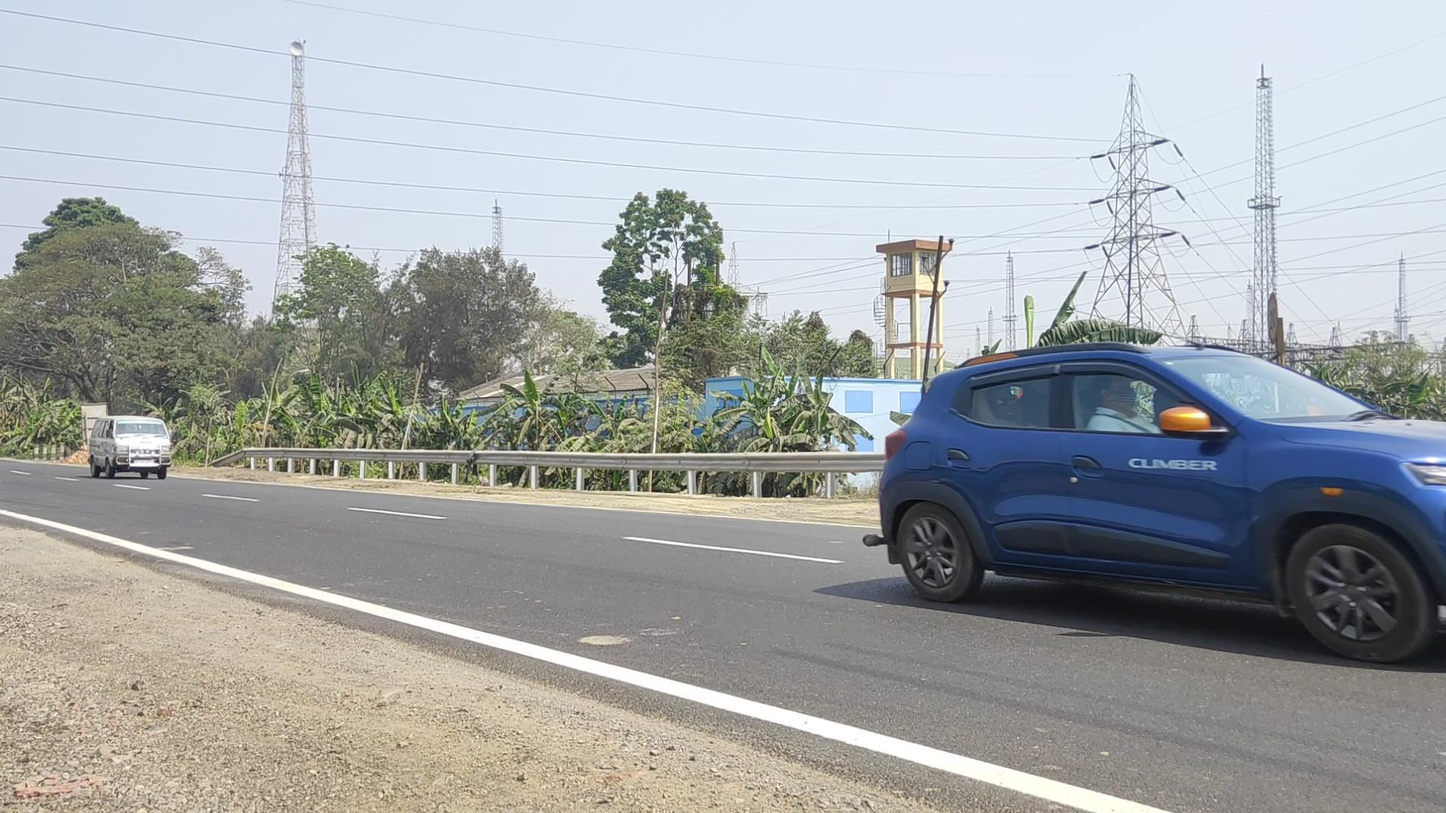car: (863, 341, 1446, 664)
van: (88, 415, 172, 480)
